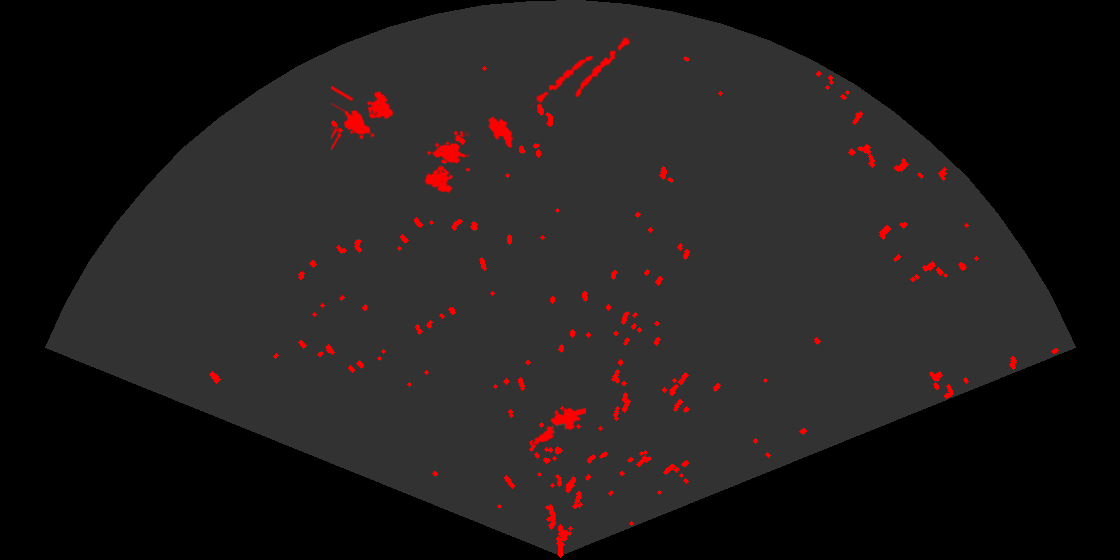AUV: (487, 115, 515, 150)
cage: (331, 84, 395, 153), (423, 131, 470, 195)
chain: (574, 28, 636, 99), (527, 54, 595, 108)
frogman: (531, 406, 586, 446)
